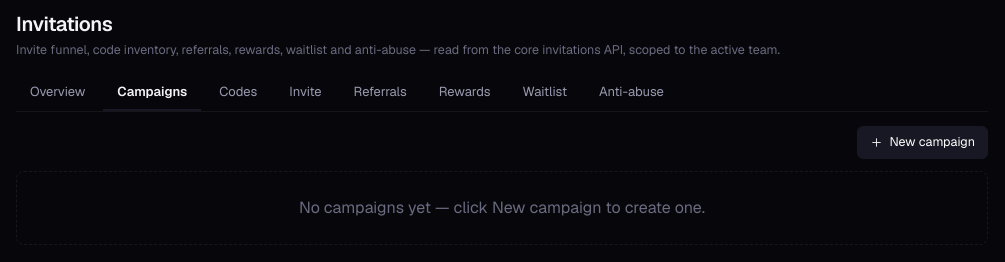
InvitationsView › Invite tab exposes the Send invitation button
This screenshot has width=1005, height=262.
Click the tab with test id "admin-invitations-tab-invite": [305, 93] box [275, 74, 336, 111]
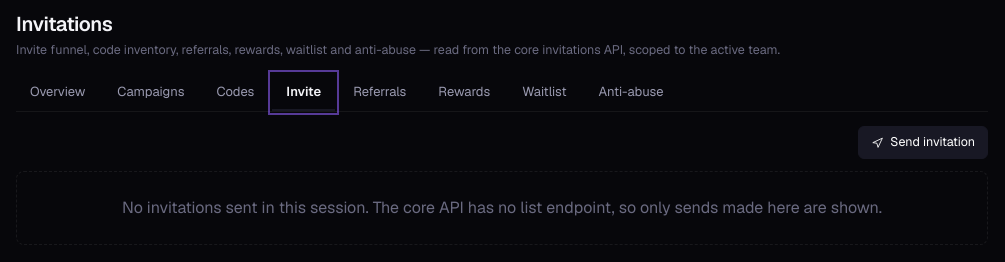
Expected: the button with test id "admin-invitations-invite-open" is shown, [858, 126, 988, 159]
